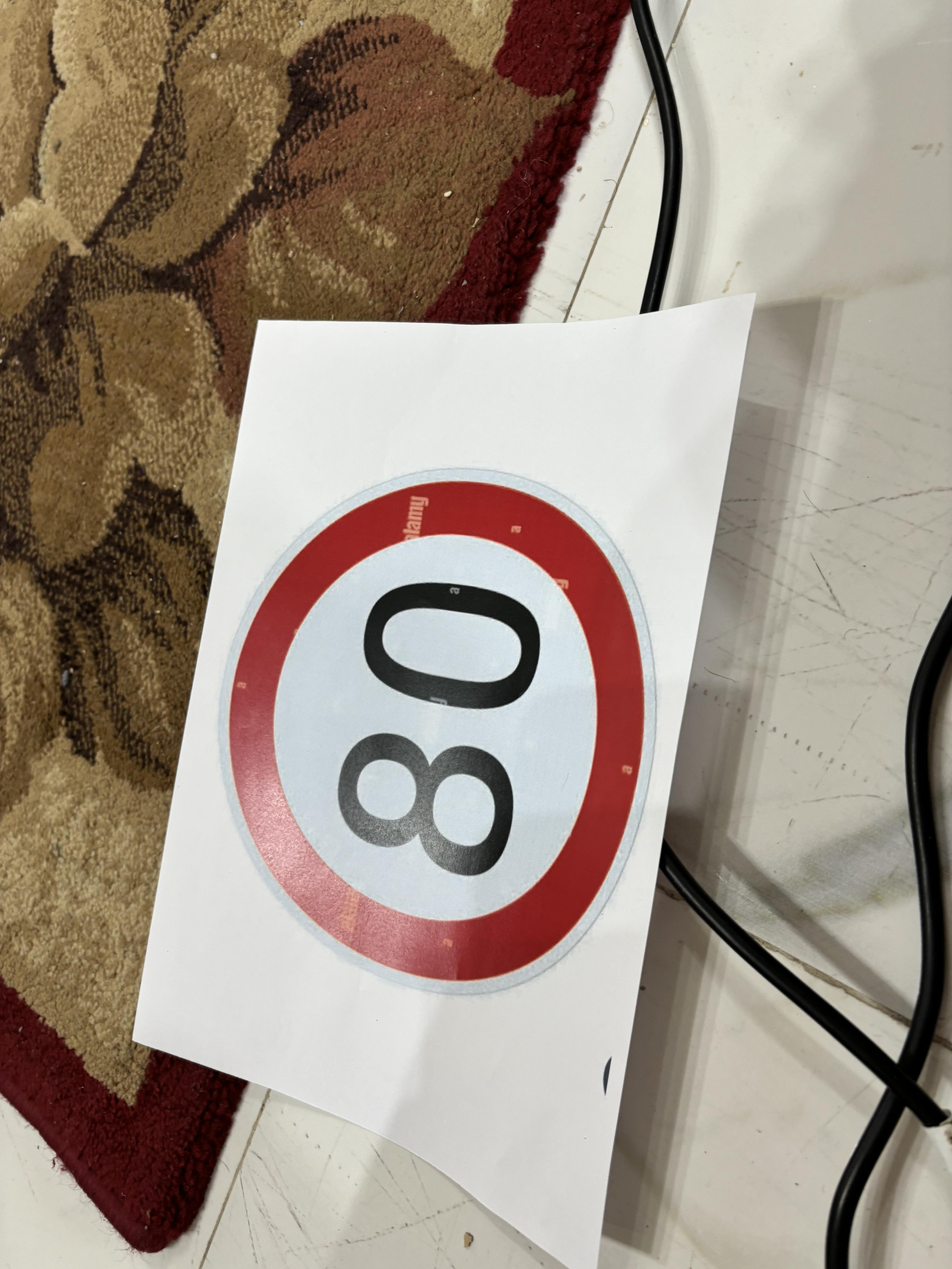80-Speed: (225, 476, 655, 993)
